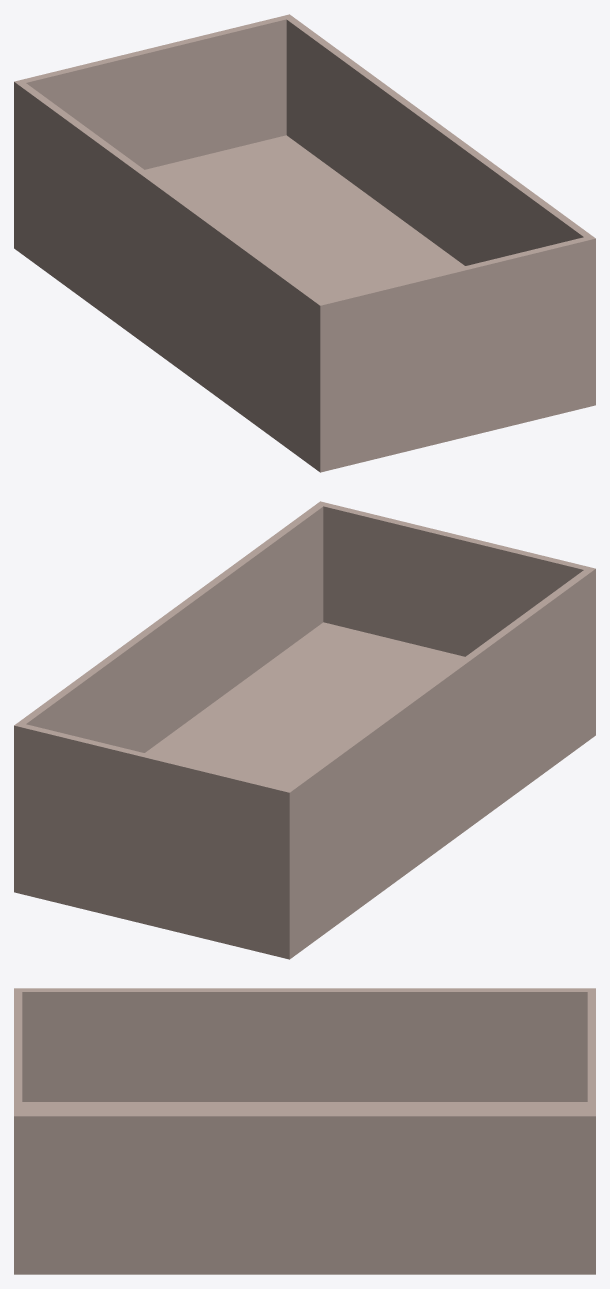
The model's file is SM_box_snacks_04.fbx.
The picture shows the model from 3 angles, top to bottom: view 1: azimuth 30°, elevation 25°; view 2: azimuth 150°, elevation 25°; view 3: azimuth 270°, elevation 25°; orthographic projection. The views are drawn at different scales.
Parts seen in each view (by area): view 1: box_snacks_04; view 2: box_snacks_04; view 3: box_snacks_04.
Part boxes in pixels (<box>): box_snacks_04: <box>14,14,595,472</box>; box_snacks_04: <box>14,501,595,959</box>; box_snacks_04: <box>14,988,595,1274</box>.
Size of the model in its own units: 32.44 by 18.75 by 62.42.
